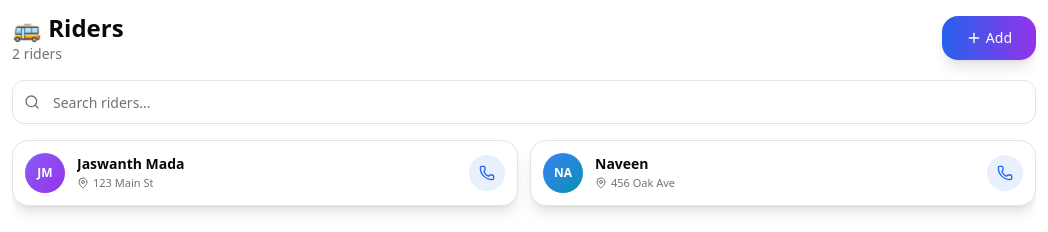
Test: RiderList Component › filters riders by address
The width and height of the screenshot is (1048, 232).
Expected: the heading "Jaswanth Mada" is shown, [77,154,185,173]
Type "Oak Ave" into the field with placeholder "Search riders...".
click(524, 102); type("Oak Ave")  # box [12,80,1036,124]
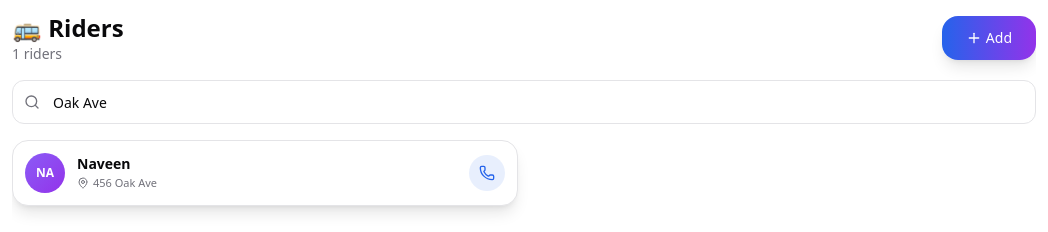
Expected: the heading "Naveen" is shown, [77,154,131,173]
Now the heading "Jaswanth Mada" is gone
